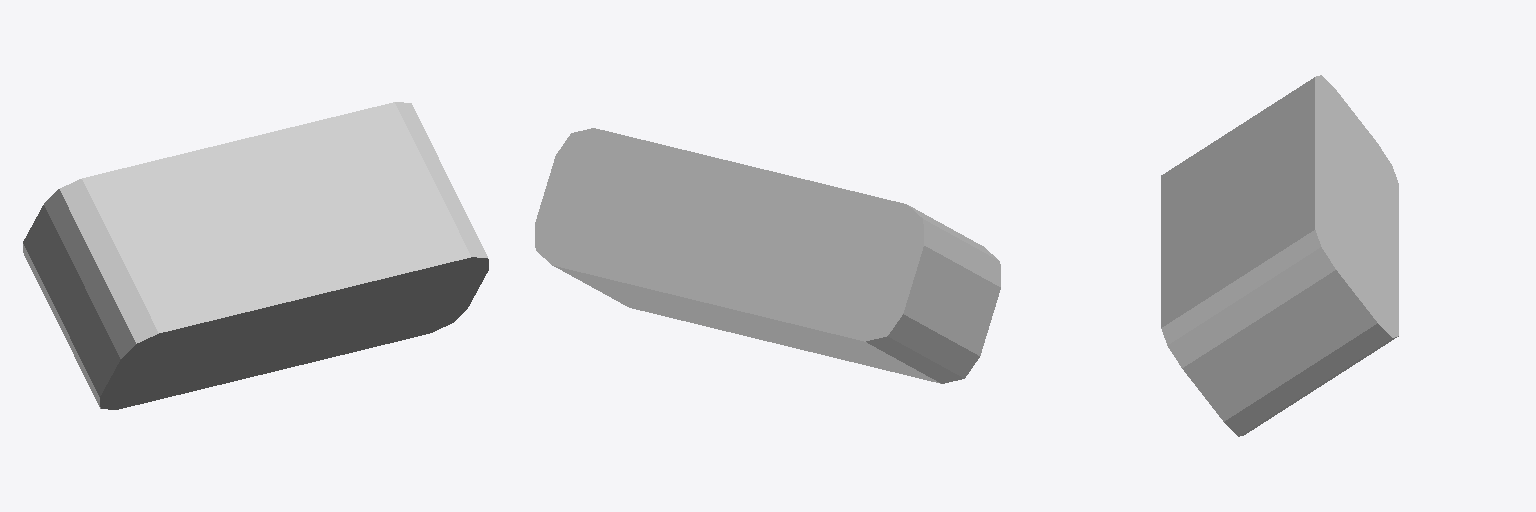
The model's file is Loops.obj.
The picture shows the model from 3 angles: view 1: azimuth 30°, elevation 25°; view 2: azimuth 150°, elevation 25°; view 3: azimuth 270°, elevation 25°; orthographic projection.
Visible parts, largest first — view 1: loops Loop; view 2: loops Loop; view 3: loops Loop.
Part boxes in pixels (bbox=[...]): loops Loop: bbox=[23, 102, 488, 409]; loops Loop: bbox=[535, 128, 1000, 383]; loops Loop: bbox=[1161, 75, 1398, 436].
Bounding box in the file's own units: 1.95 × 1.04 × 1.09.